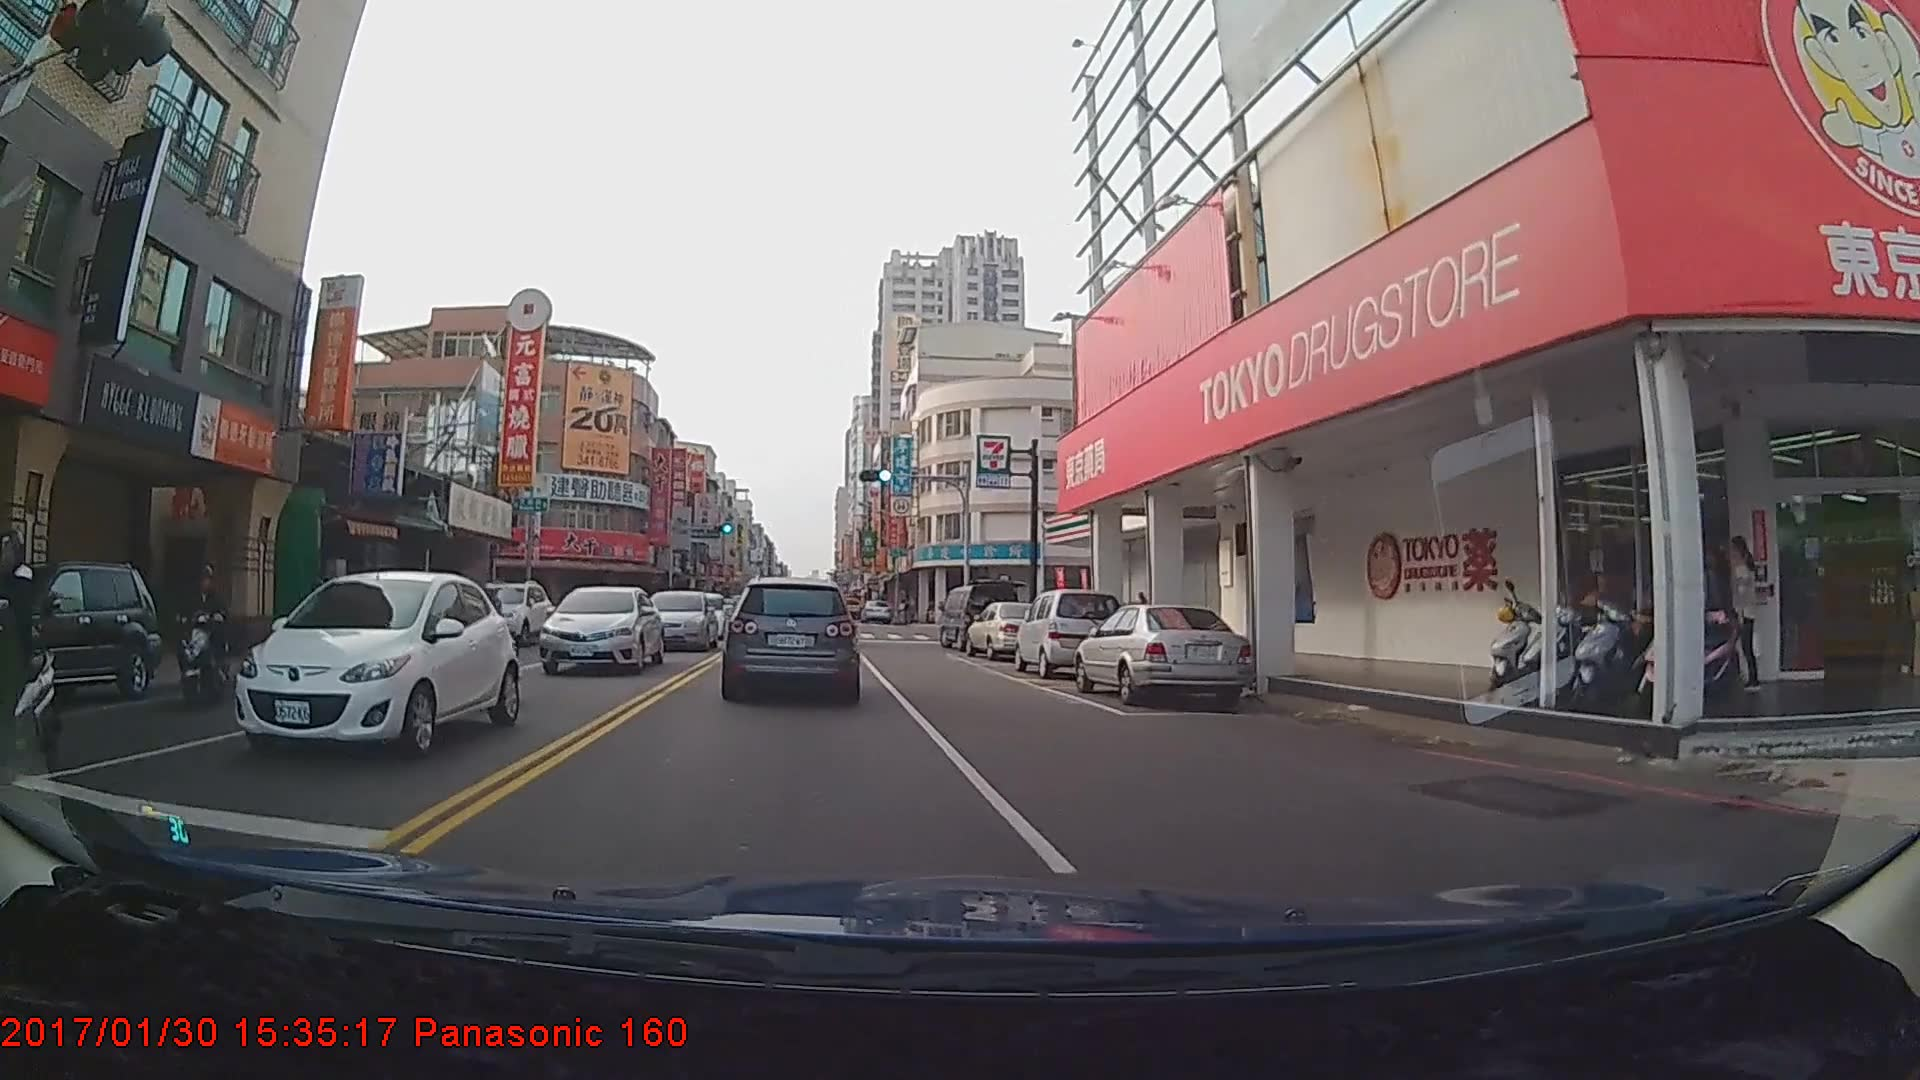pedestrian: (1692, 538, 1739, 694), (1729, 533, 1766, 693)
rider: (174, 566, 243, 705)
vehicle: (213, 567, 507, 766), (0, 559, 159, 702), (1073, 600, 1251, 711), (724, 577, 857, 702), (536, 584, 661, 674), (1009, 586, 1122, 676), (935, 580, 1019, 653), (464, 580, 552, 646), (964, 600, 1058, 662), (639, 589, 717, 653), (861, 597, 892, 622)
